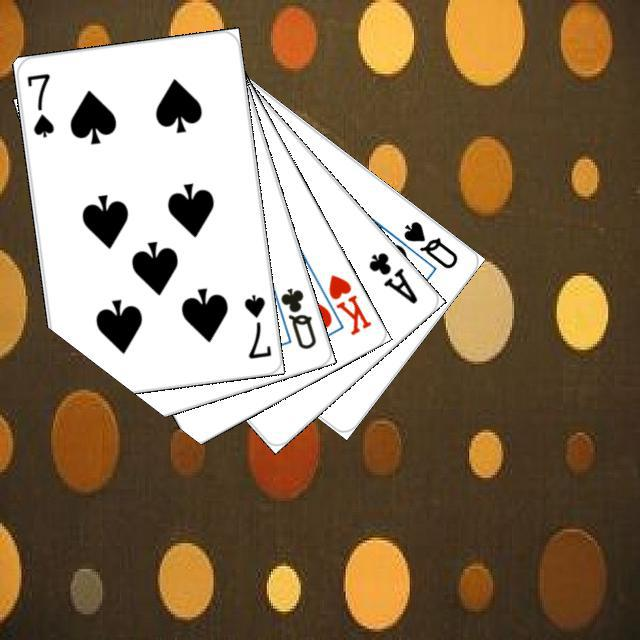7s: (22, 68, 56, 140), (239, 289, 273, 360)
Ac: (363, 247, 420, 306)
Kh: (309, 269, 373, 337)
Qc: (267, 281, 318, 351)
Qs: (398, 216, 460, 271)
